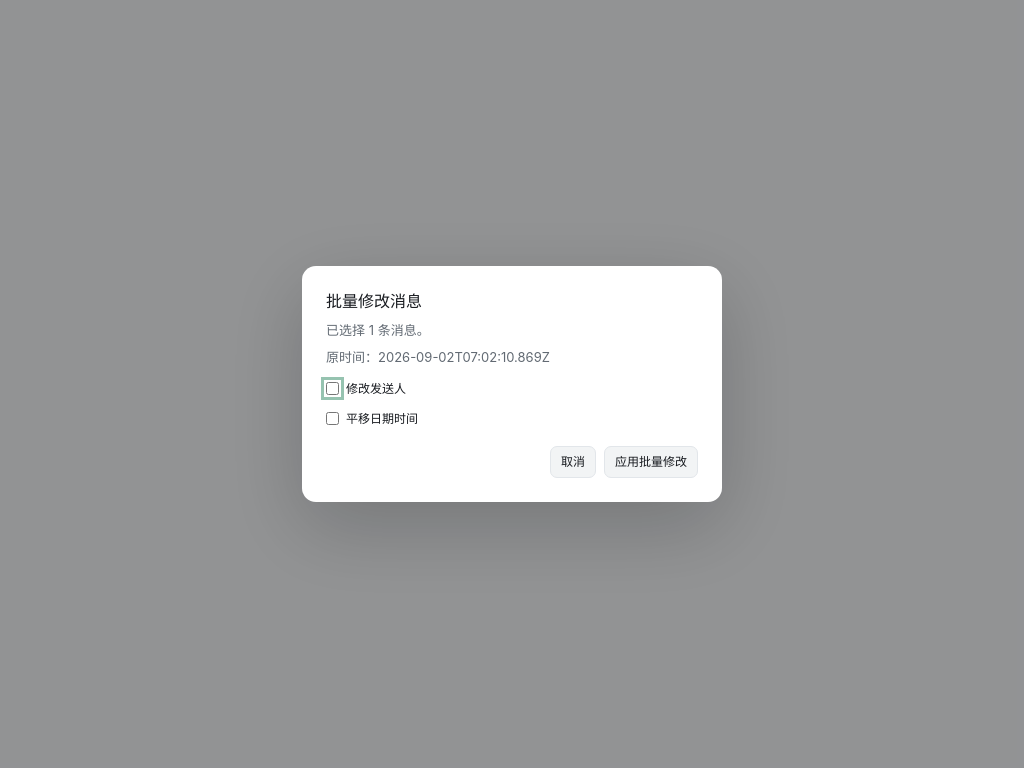
it: BatchMessageDialog › shows a validation error for an empty edit without closing
Click the button "应用批量修改" at (651, 462), box [604,446,698,478]
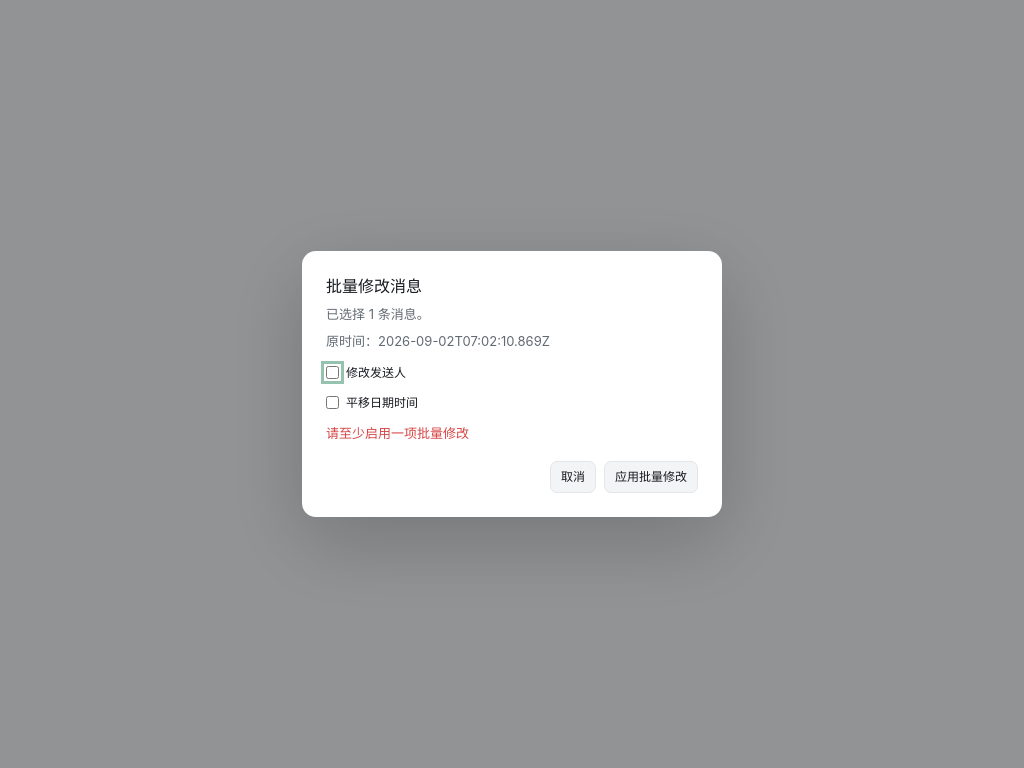
Check: the message reads "请至少启用一项批量修改", box [326,425,469,441]
